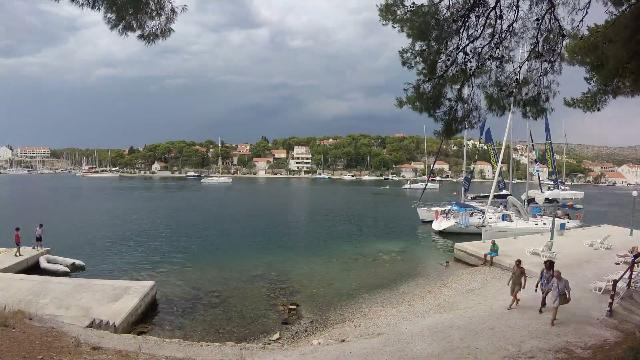Sailboat: (401, 178, 442, 192), (198, 171, 236, 185)
